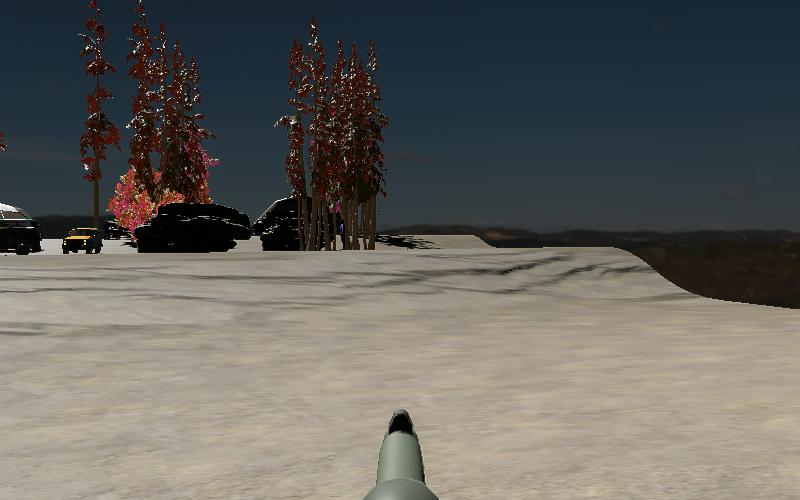Tank: (101, 216, 131, 241)
car: (0, 215, 45, 256), (60, 225, 105, 256)
